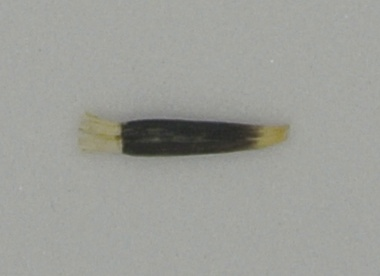เมล็ดดีติดกัน: (76, 107, 291, 162)
